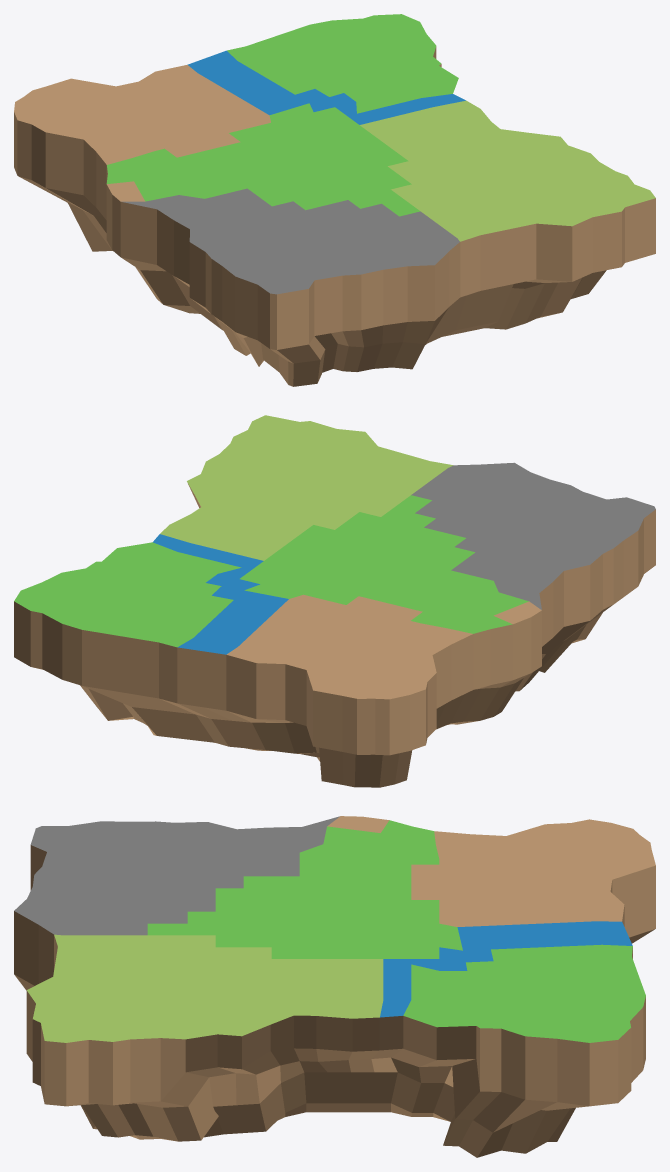
The model's file is MapBase 1.fbx.
3 views of the same model, one above another, from view 1: azimuth 30°, elevation 25°; view 2: azimuth 150°, elevation 25°; view 3: azimuth 270°, elevation 25° (orthographic). The views are drawn at different scales.
Visible parts, largest first — view 1: Cube; view 2: Cube; view 3: Cube.
Part boxes in pixels (<box>): Cube: <box>14,14,655,386</box>; Cube: <box>14,415,655,787</box>; Cube: <box>14,816,655,1157</box>.
Size of the model in its own units: 5188 by 1635 by 6202.
